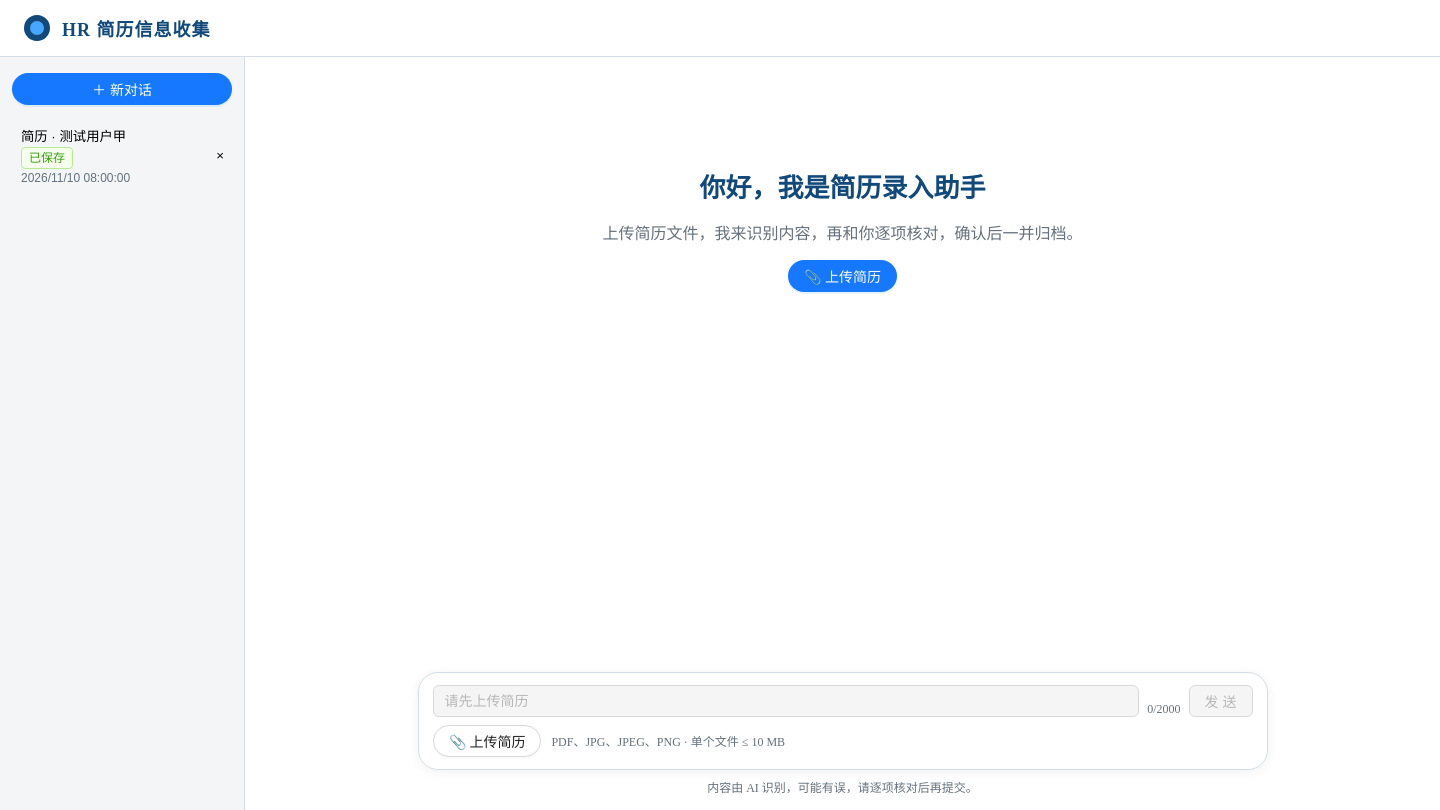
opening a saved session (REQ-FE-05.3) › shows the record and a read-only conversation: no apply / cancel, chat closed, no contact data in console
What coordinates should you click on to do the following:
click the button "简历 · 测试用户甲 已保存 2026/11/10 08:00:00"
I would click on:
 (108, 156)
Its box is [12,117,204,194].
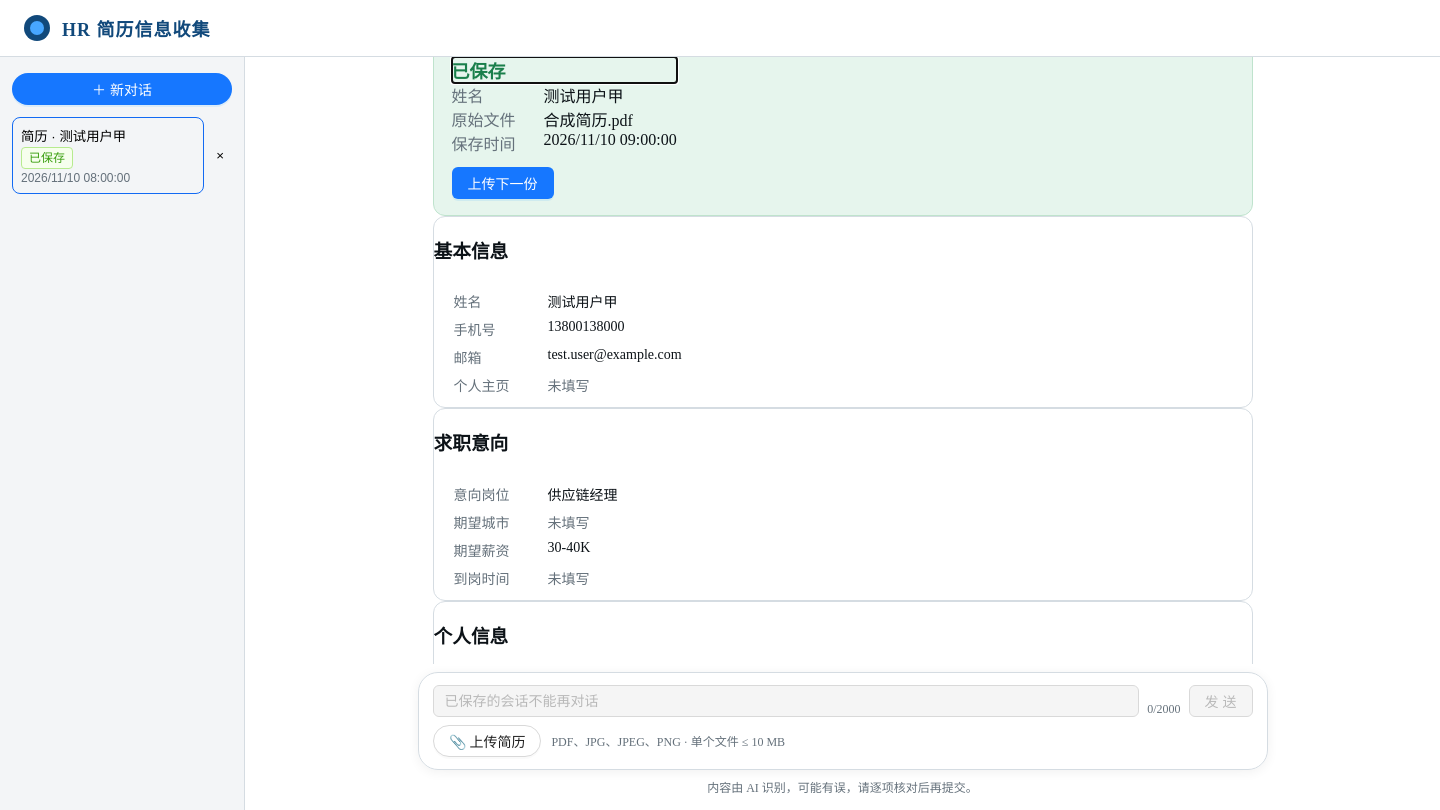
Expected: the text "13800138000" is shown, [548,319,624,334]
